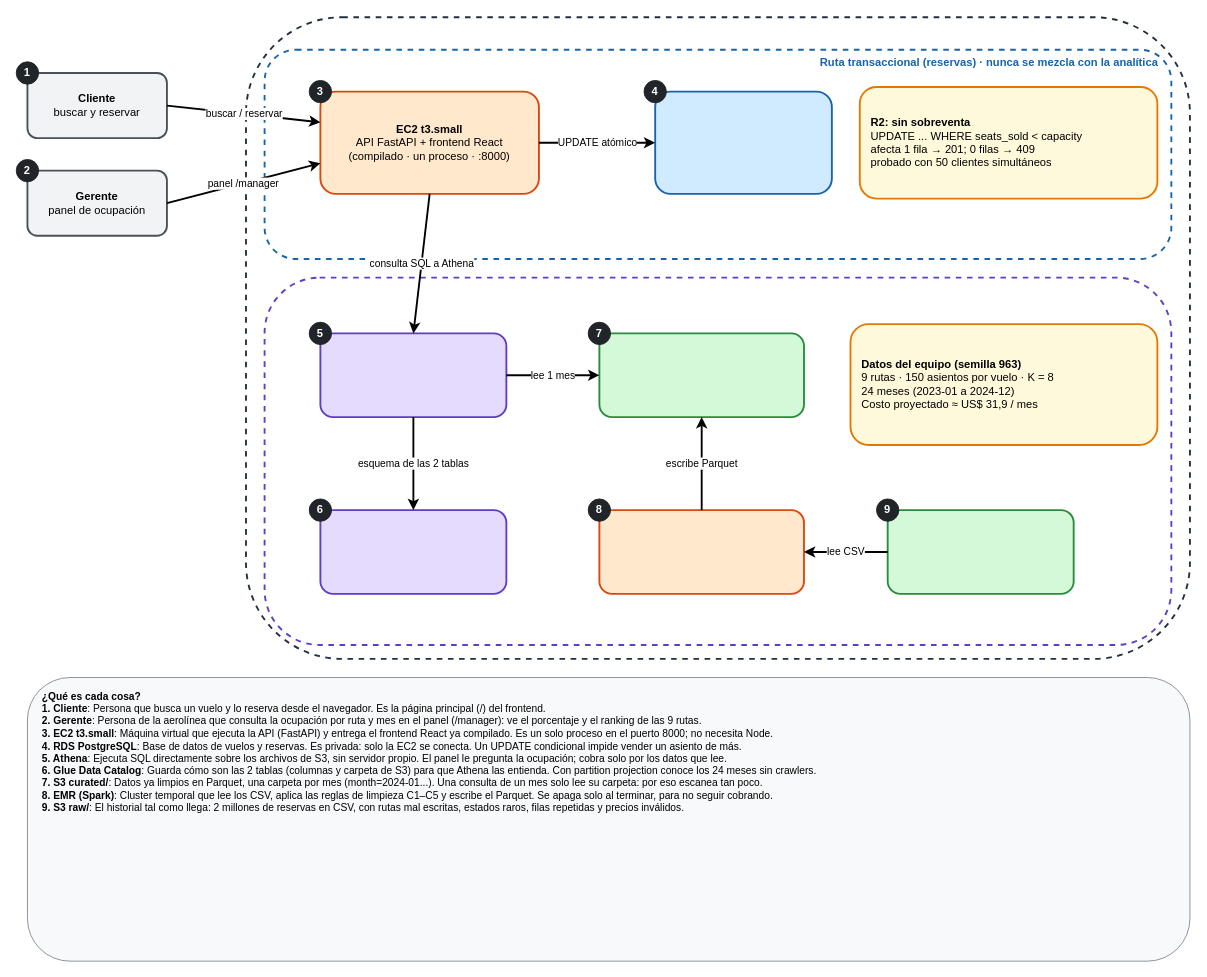
Image size: 1207x977. Some labels were removed from this diagram. The shapes that lost their labels are listed below. From the top down, each one's box as (x1, y1, x2, y2) in pixels, then its label:
(654, 90, 832, 194): RDS PostgreSQL db.t3.micro · 1 AZ privada (solo la EC2)
(245, 16, 1190, 659): AWS Academy Learner Lab · us-east-1 · VPC por defecto · una sola AZ
(319, 332, 507, 418): Athena workgroup airline-wg tope 1 GB por consulta
(598, 332, 804, 418): S3 curated/ Parquet por month=YYYY-MM 24 particiones
(263, 276, 1172, 645): Ruta analítica (limpieza por lotes + consultas del panel)
(319, 509, 507, 594): Glue Data Catalog 2 tablas · partition projection (sin crawlers)
(598, 509, 804, 594): EMR · 1 × m4.large PySpark: reglas C1–C5 efímero (--auto-terminate)
(886, 509, 1074, 594): S3 raw/ CSV crudo y sucio 2,0 M de reservas
